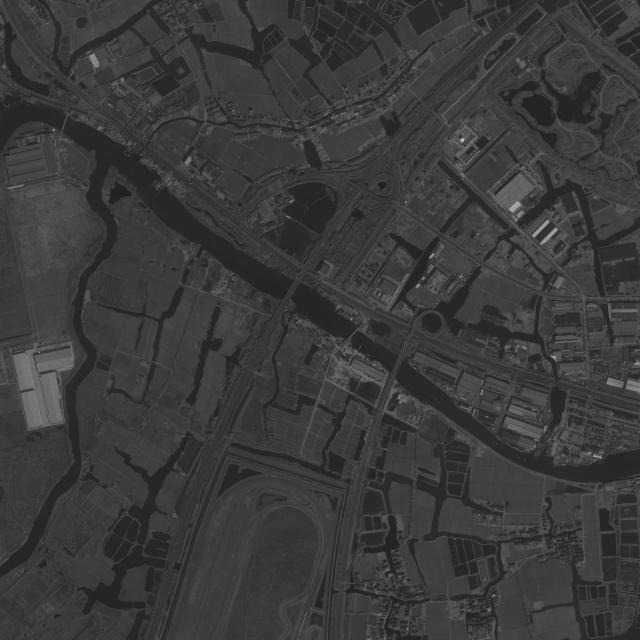ship: (432, 396, 441, 404), (536, 442, 543, 451), (159, 181, 166, 189), (517, 456, 526, 462), (160, 180, 167, 187), (152, 180, 159, 187), (154, 185, 160, 193), (533, 451, 538, 460), (167, 189, 173, 196), (155, 184, 161, 191), (157, 183, 163, 190), (158, 182, 164, 189), (491, 440, 498, 446), (541, 443, 546, 451), (151, 179, 157, 185), (147, 167, 153, 173), (127, 150, 133, 156), (536, 450, 540, 459), (365, 352, 372, 357), (358, 344, 363, 351), (542, 445, 547, 452), (540, 443, 545, 450), (596, 459, 604, 463), (597, 461, 605, 465), (537, 451, 541, 459), (128, 152, 133, 158), (542, 436, 547, 442), (123, 151, 127, 156), (124, 148, 128, 152), (128, 148, 131, 152)
